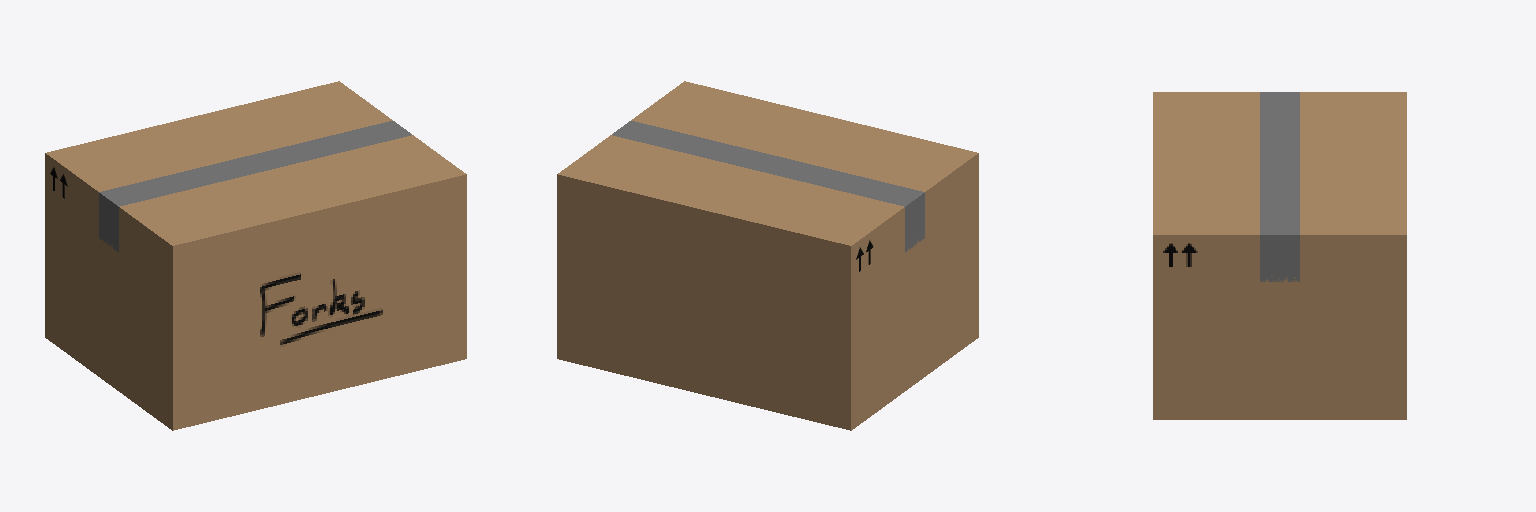
3 renders of one model, left to right at view 1: azimuth 30°, elevation 25°; view 2: azimuth 150°, elevation 25°; view 3: azimuth 270°, elevation 25°, orthographic.
Visible parts, largest first — view 1: Cube; view 2: Cube; view 3: Cube.
Part boxes in pixels (x1,y1,x2,y2): Cube: (45,81,466,430); Cube: (557,81,978,430); Cube: (1153,92,1406,419).
Bounding box in the file's own units: 1 × 0.6 × 0.75.
Materials: 1 (1 with a texture image).